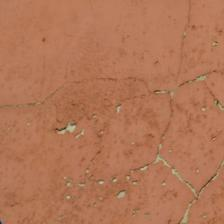Crack: (4, 67, 220, 113), (160, 5, 197, 147), (156, 157, 223, 222)
